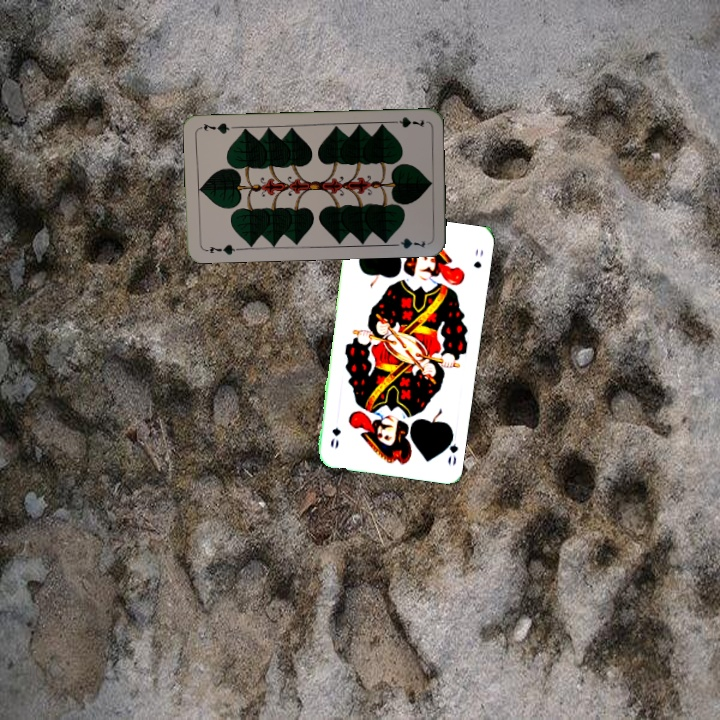G7: (386, 113, 427, 130), (201, 241, 242, 257)
GO: (441, 427, 461, 468)
